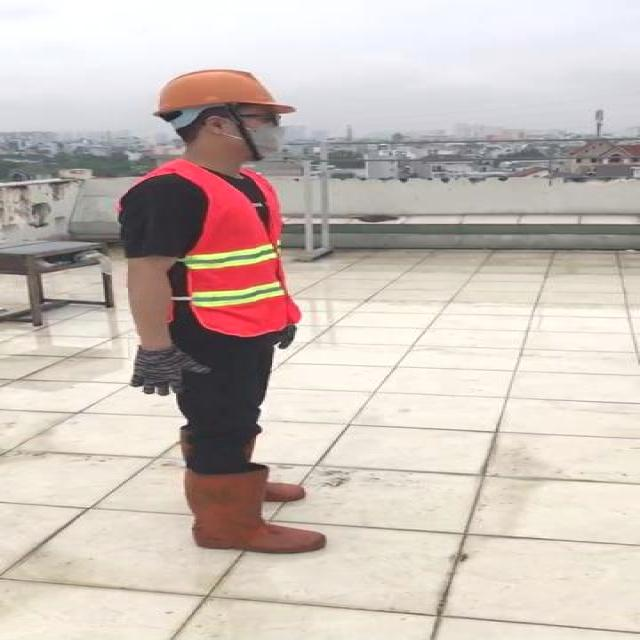boots: (183, 468, 325, 556)
face_mask: (221, 109, 291, 158)
hand_glove: (128, 344, 213, 396), (272, 323, 302, 351)
head_helmet: (156, 66, 290, 114)
person: (102, 61, 344, 568)
vest: (160, 160, 297, 334)
